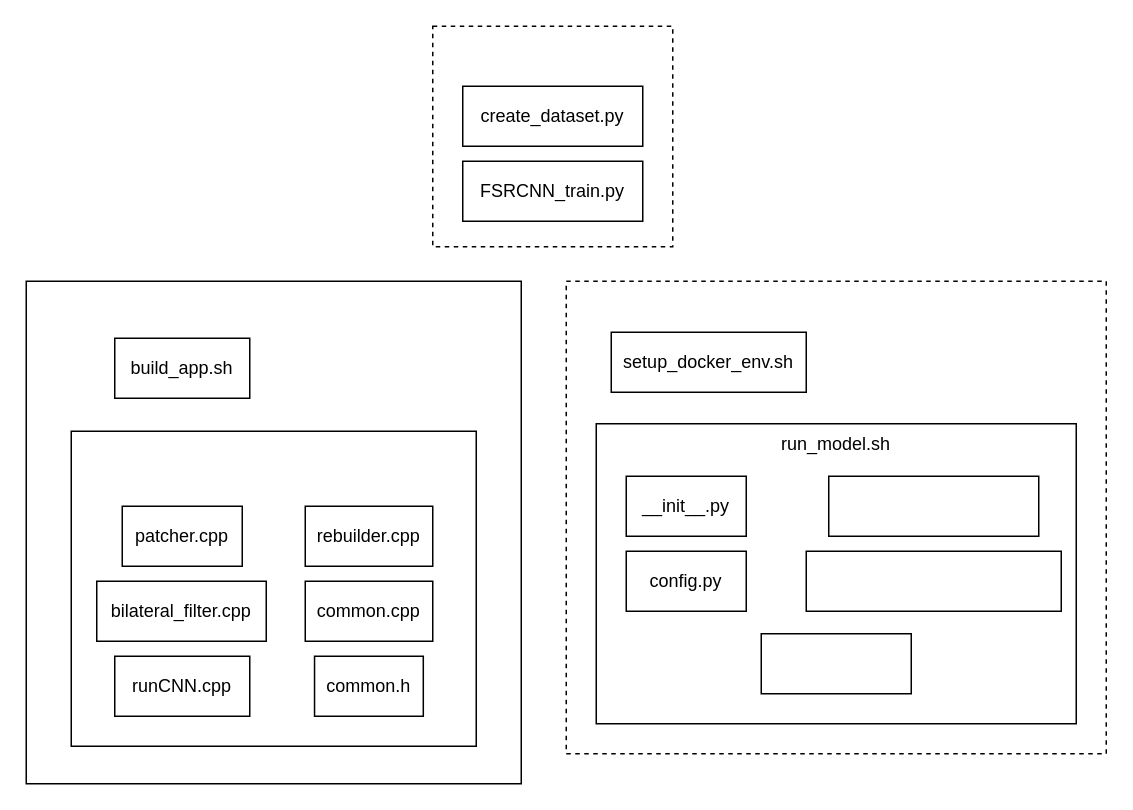
Some shapes in this 1133 by 810 pixel diagram are drawn without their labels. Each missing label, with the box of its shape:
eval_quantized_model.py: (805, 550, 1061, 611)
fsrcnn6_relu.h5: (760, 632, 911, 694)
IA training: (431, 25, 673, 247)
run_target.sh: (25, 280, 521, 784)
SuperRes7.cpp: (70, 430, 476, 746)
vai_q_tensorflow2.py: (827, 475, 1039, 536)
Vitis AI: (565, 280, 1106, 754)
